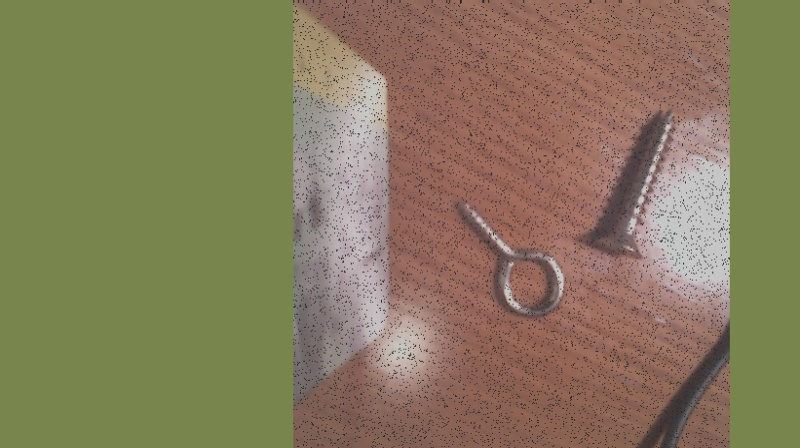O001: (453, 191, 566, 319)
S001: (590, 107, 677, 261)
